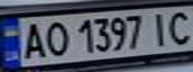1: (72, 16, 93, 54)
3: (90, 15, 112, 53)
7: (124, 11, 148, 50)
9: (109, 15, 130, 52)
A: (18, 19, 48, 61)
C: (163, 8, 193, 46)
I: (148, 9, 172, 47)
O: (39, 19, 72, 57)
